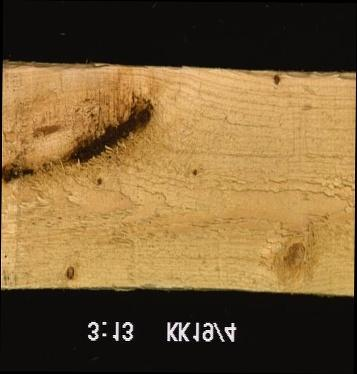dry_knot: (64, 264, 75, 281)
edge_knot: (271, 73, 280, 87)
small_knot: (190, 167, 199, 178)
sound_knot: (256, 213, 331, 291)
wave: (223, 69, 355, 81)
